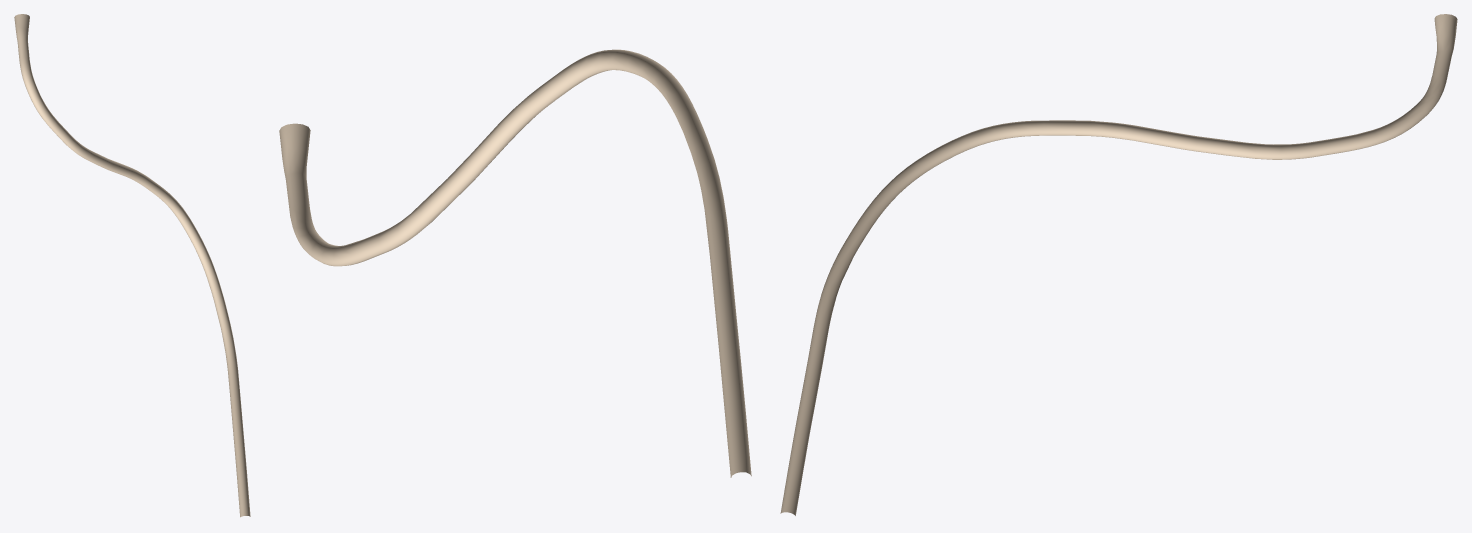
The model's file is zanatomy-male-urethra.glb.
3 views of the same model, side by side, from view 1: azimuth 30°, elevation 25°; view 2: azimuth 150°, elevation 25°; view 3: azimuth 270°, elevation 25° (orthographic). The views are drawn at different scales.
Parts seen in each view (by area): view 1: zu_urethra; view 2: zu_urethra; view 3: zu_urethra.
Boxes of the visible parts, box(x1,y1,x2,y2) form: zu_urethra: box(14, 14, 250, 517); zu_urethra: box(279, 49, 751, 477); zu_urethra: box(780, 14, 1457, 515).
Bounding box in the file's own units: 0.0036 × 0.0858 × 0.1057.
